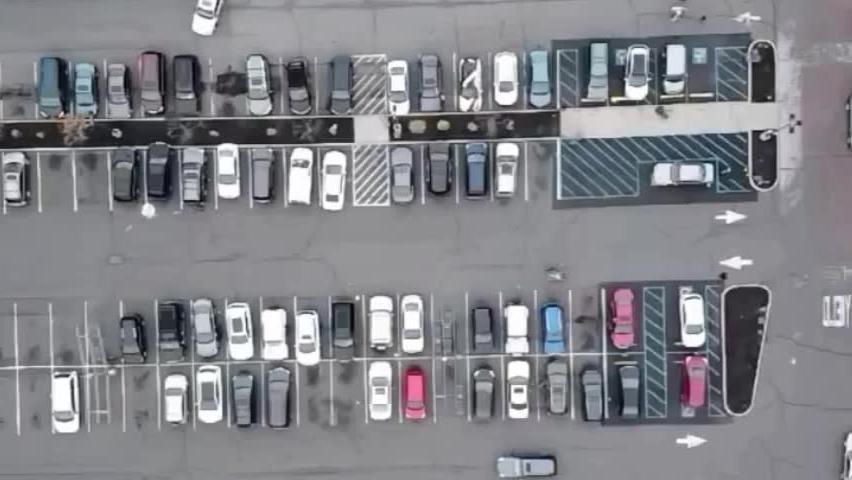car: (361, 359, 399, 426), (45, 366, 80, 436), (33, 56, 69, 121), (171, 52, 206, 117), (319, 150, 354, 215), (648, 159, 719, 191), (138, 48, 169, 117), (106, 150, 142, 209), (504, 360, 537, 424), (261, 364, 293, 430), (188, 364, 222, 426), (492, 139, 525, 202), (143, 142, 176, 205), (227, 369, 259, 432), (328, 299, 359, 364), (325, 54, 356, 118), (284, 147, 317, 207), (289, 309, 323, 367), (491, 451, 559, 480), (153, 297, 184, 360), (159, 371, 190, 434), (249, 143, 281, 204), (609, 285, 639, 350), (399, 285, 428, 350), (244, 53, 272, 120), (468, 364, 499, 424), (398, 364, 429, 424), (258, 303, 290, 361), (620, 45, 653, 101), (367, 287, 395, 353), (224, 300, 254, 361), (390, 144, 419, 206), (0, 153, 31, 211), (427, 141, 457, 200), (465, 139, 494, 200), (500, 301, 531, 358), (490, 50, 519, 110), (417, 50, 446, 110), (577, 365, 605, 427), (660, 42, 691, 98), (178, 145, 207, 204), (682, 356, 711, 415), (585, 44, 614, 102), (70, 63, 99, 121), (116, 311, 146, 367), (615, 362, 642, 424), (679, 292, 707, 351), (528, 48, 555, 109), (287, 57, 313, 120), (386, 56, 413, 116), (193, 295, 218, 359), (455, 54, 483, 111), (542, 359, 569, 418), (214, 143, 240, 204), (540, 302, 569, 355), (107, 55, 132, 116), (470, 305, 494, 358), (190, 0, 222, 37)
